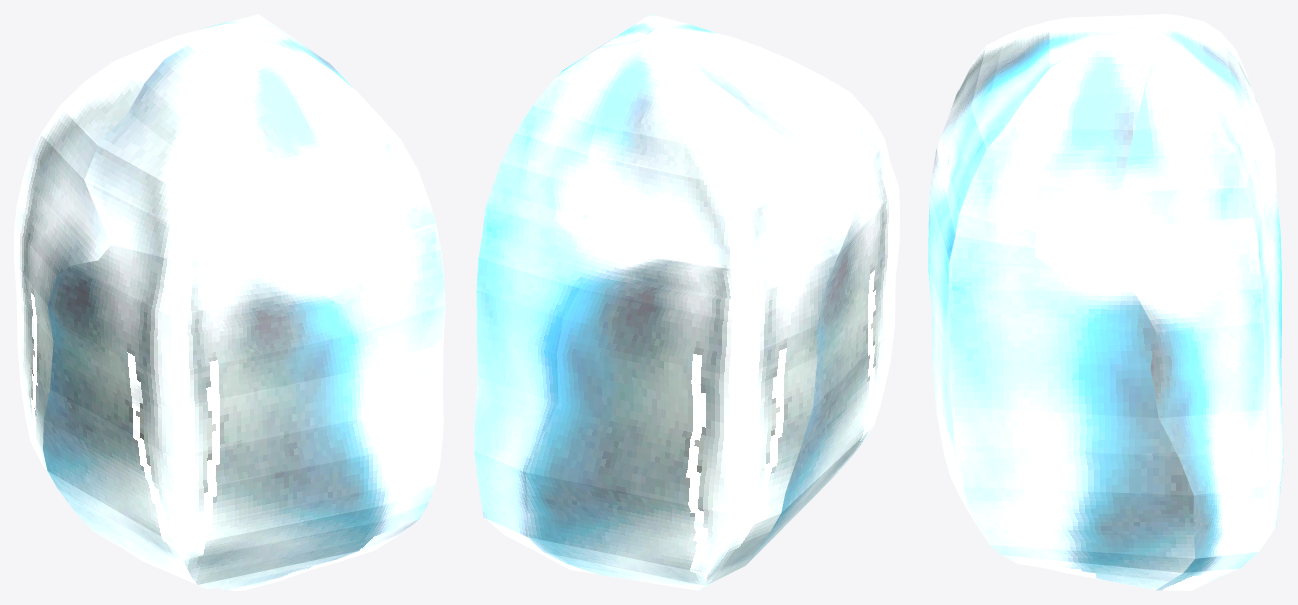
File: metamorphosis_v8_t.glb
The picture shows the model from 3 angles, left to right: view 1: azimuth 30°, elevation 25°; view 2: azimuth 150°, elevation 25°; view 3: azimuth 270°, elevation 25°; orthographic projection.
Visible parts, largest first — view 1: Cube; view 2: Cube; view 3: Cube.
Boxes of the visible parts, <box> form: Cube: <box>14,14,445,590</box>; Cube: <box>474,14,899,590</box>; Cube: <box>928,14,1283,590</box>.
Size of the model in its own units: 1.06 by 1.79 by 1.04.
